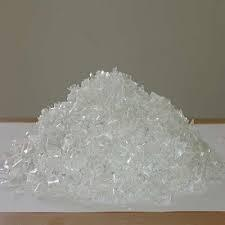Plastic shavings: (2, 68, 221, 213)
